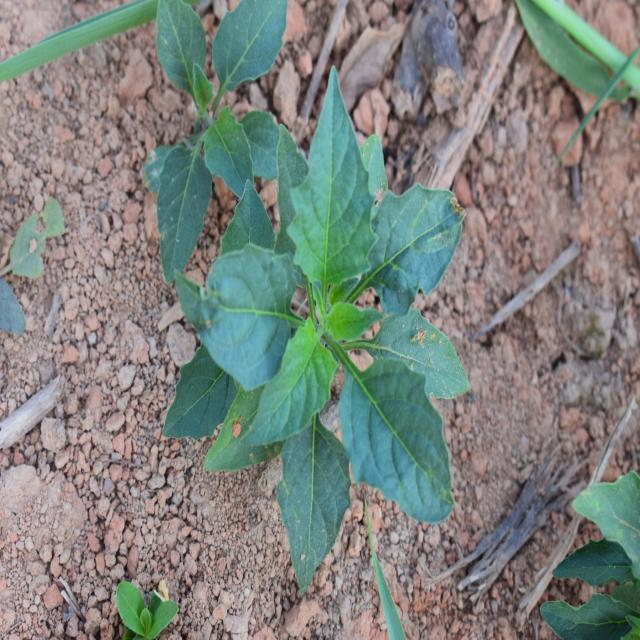Black_nightshade: (210, 142, 464, 575), (145, 0, 293, 220)
